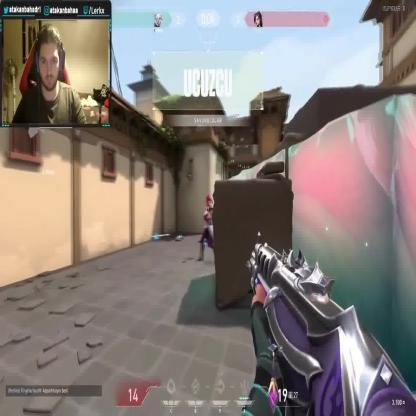enemy: (197, 192, 222, 262)
enemy_head: (205, 194, 213, 209)
